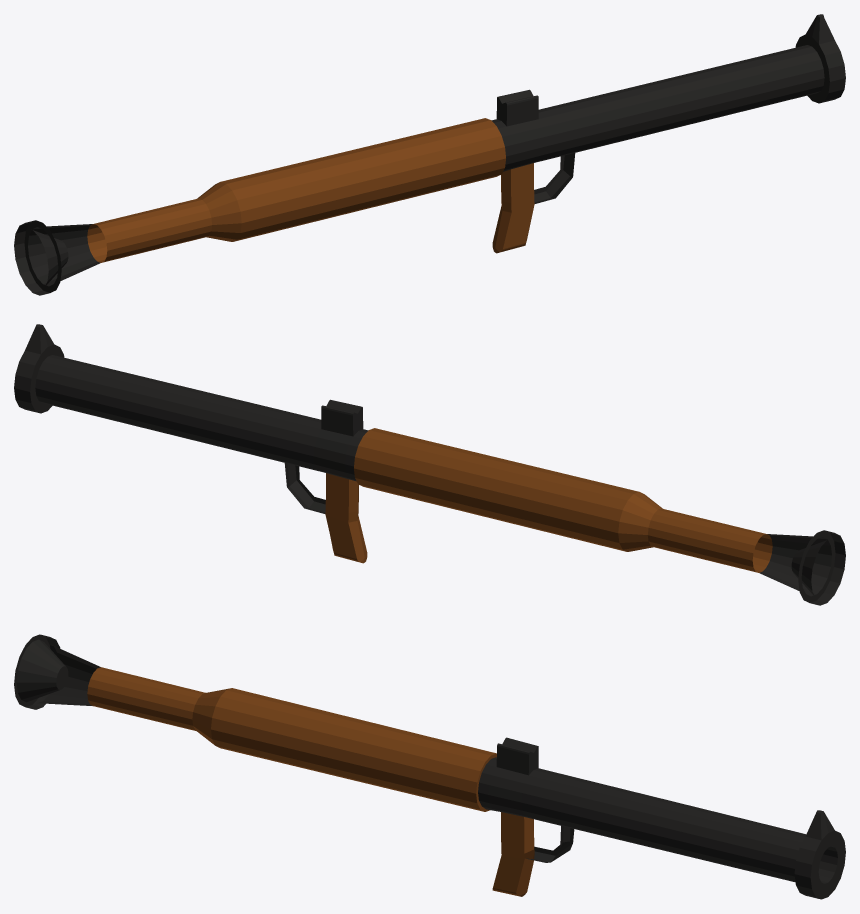
The model's file is LAUNCHER.fbx.
3 views of the same model, one above another, from view 1: azimuth 30°, elevation 25°; view 2: azimuth 150°, elevation 25°; view 3: azimuth 330°, elevation 25° (orthographic).
Visible parts, largest first — view 1: Cylinder; view 2: Cylinder; view 3: Cylinder.
Boxes of the visible parts, box(x1,y1,x2,y2) form: Cylinder: box(14, 14, 845, 295); Cylinder: box(14, 324, 845, 605); Cylinder: box(14, 634, 845, 899).
Size of the model in its own units: 595 by 113 by 48.39.
